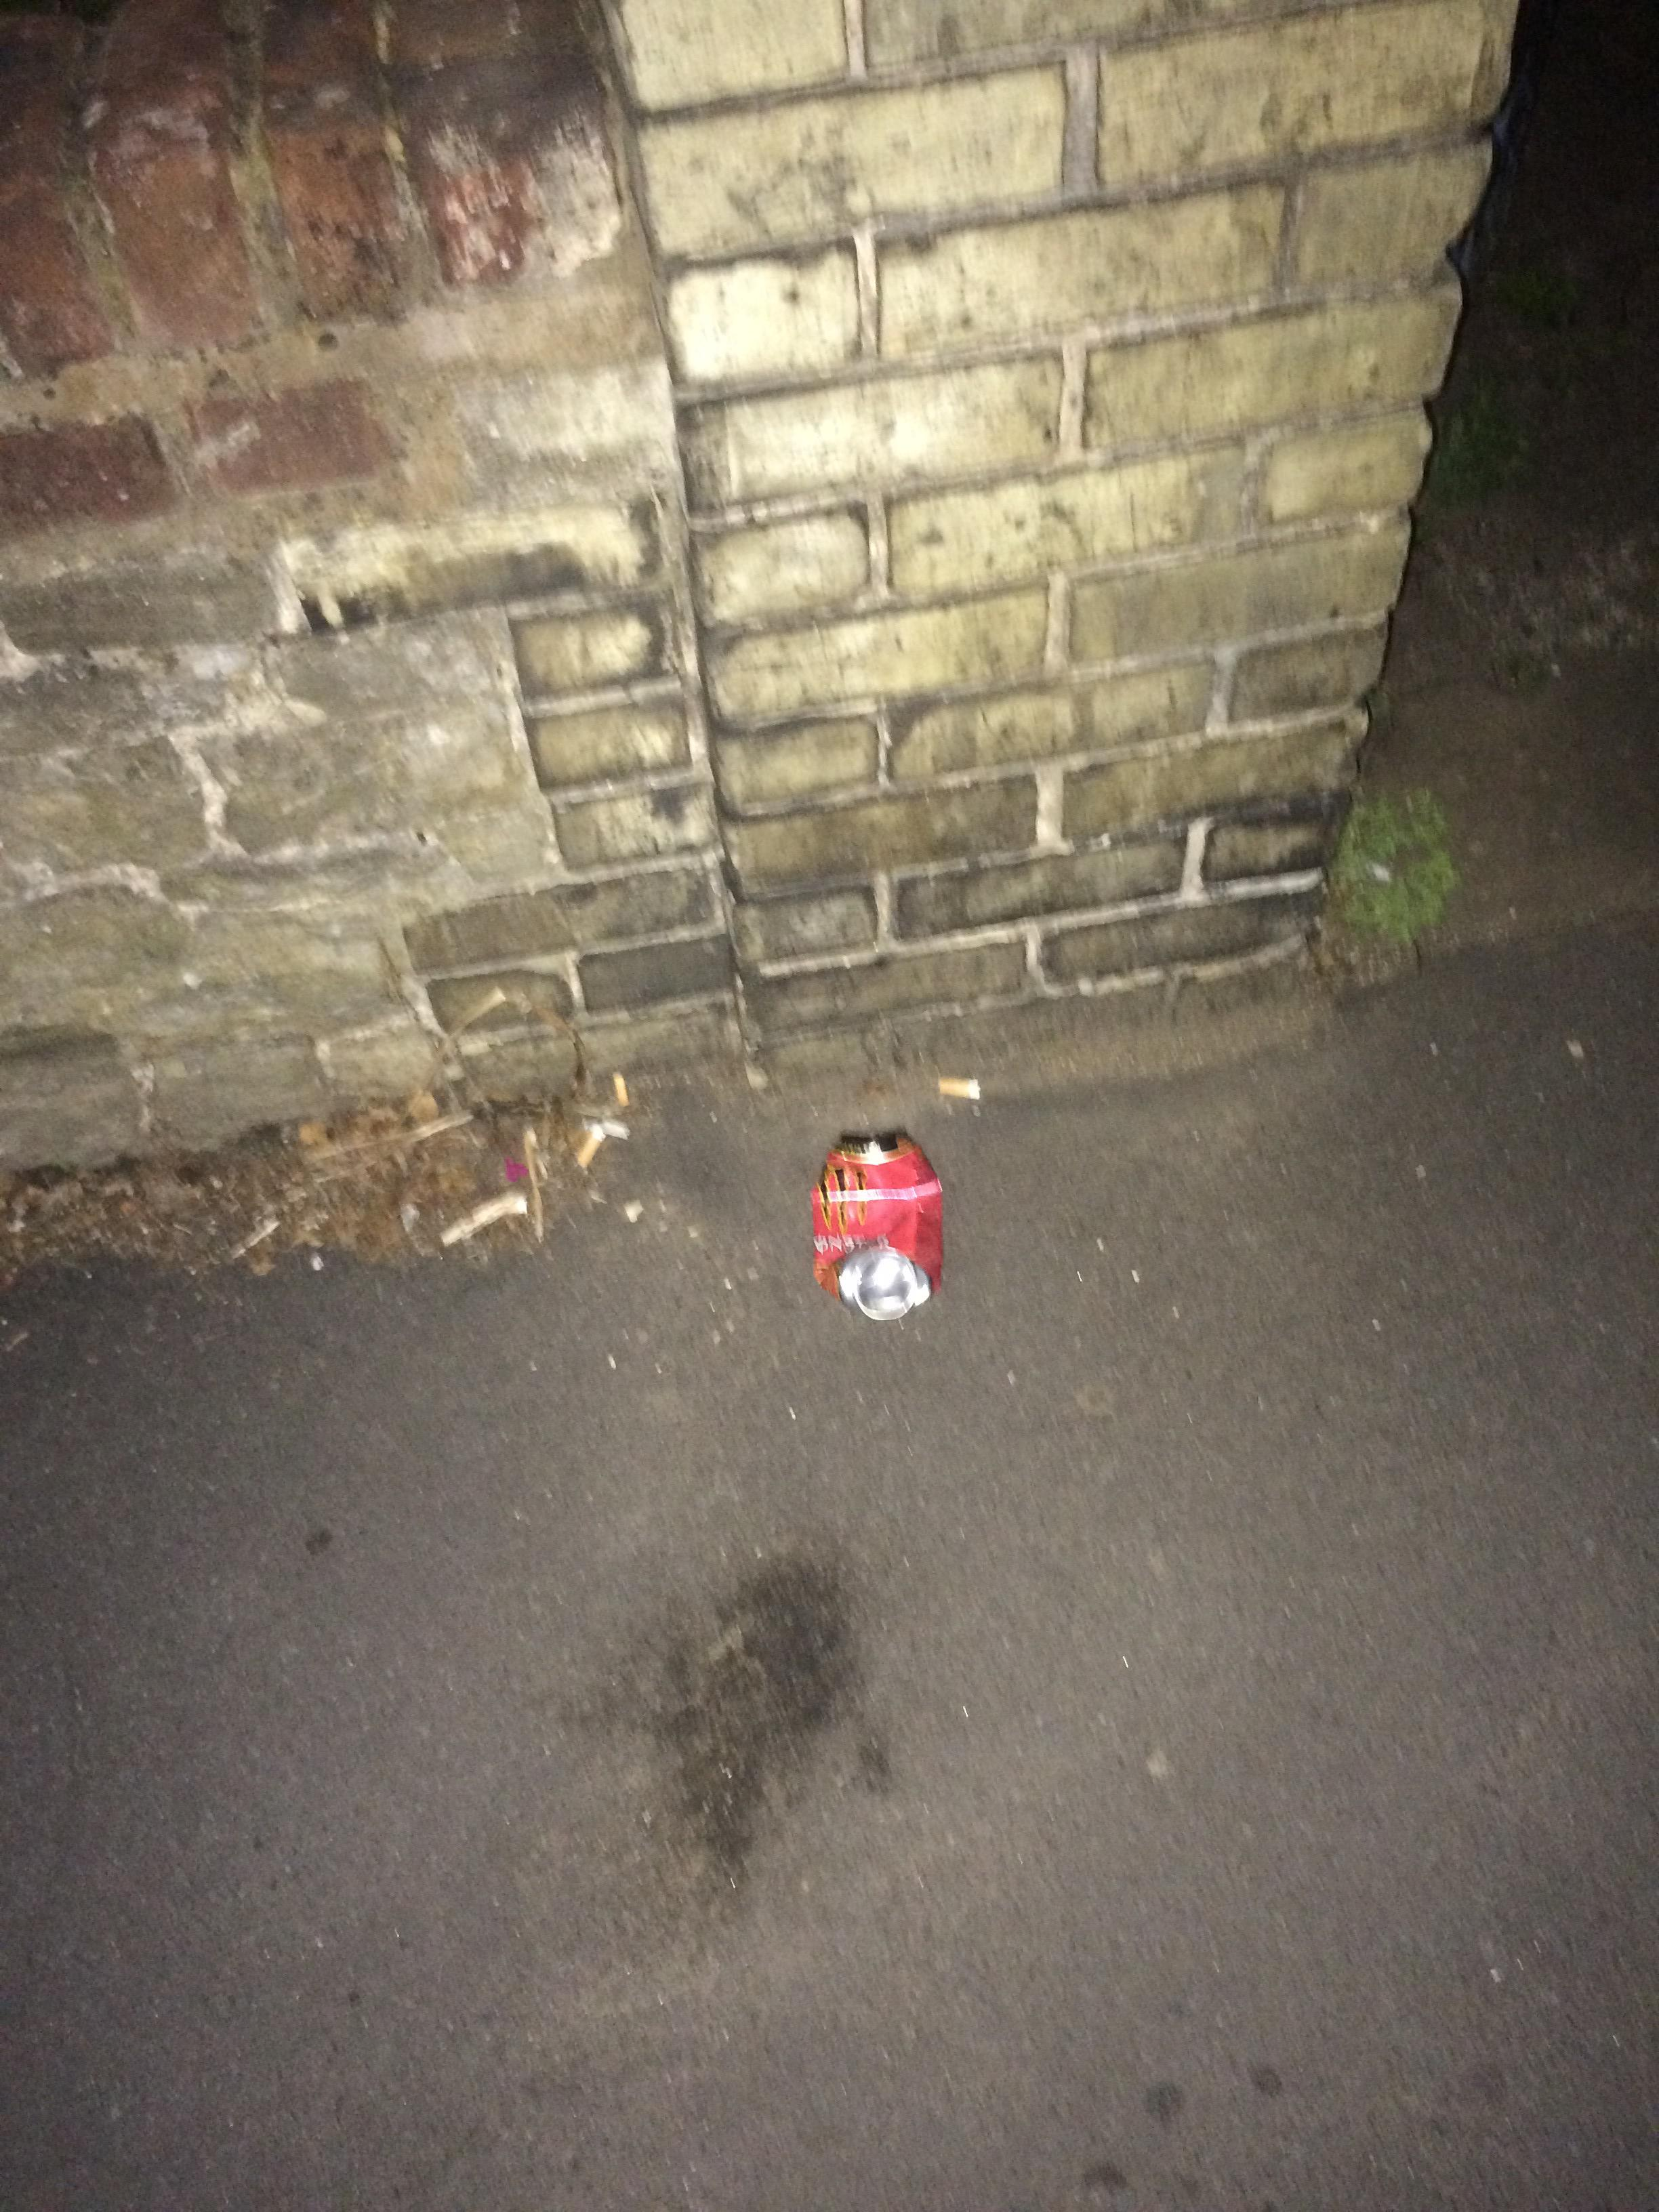Trash: (805, 1122, 948, 1324)
